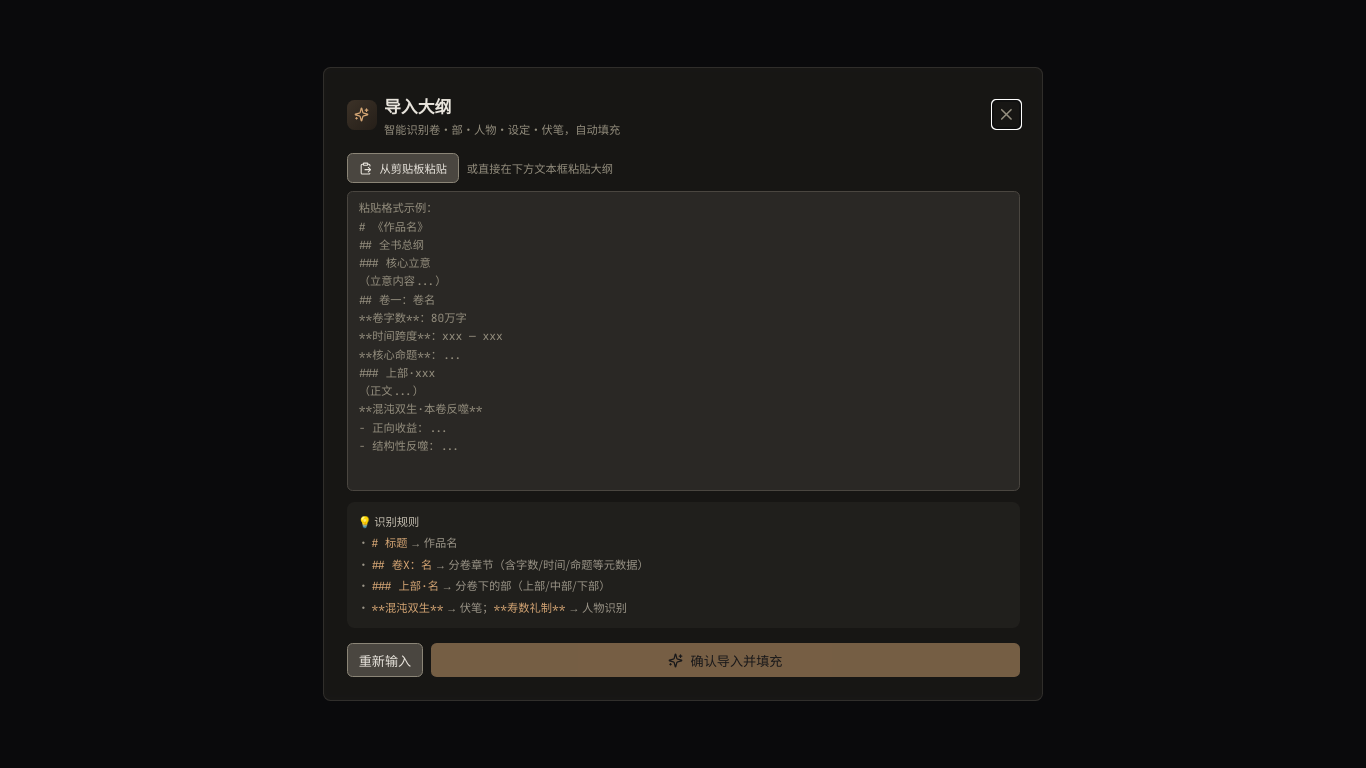
Test: OutlineImportModal › 剪贴板读取失败显示错误
The image size is (1366, 768).
Step 1. Click the button "从剪贴板粘贴" → (403, 168), box [346,153,459,183]
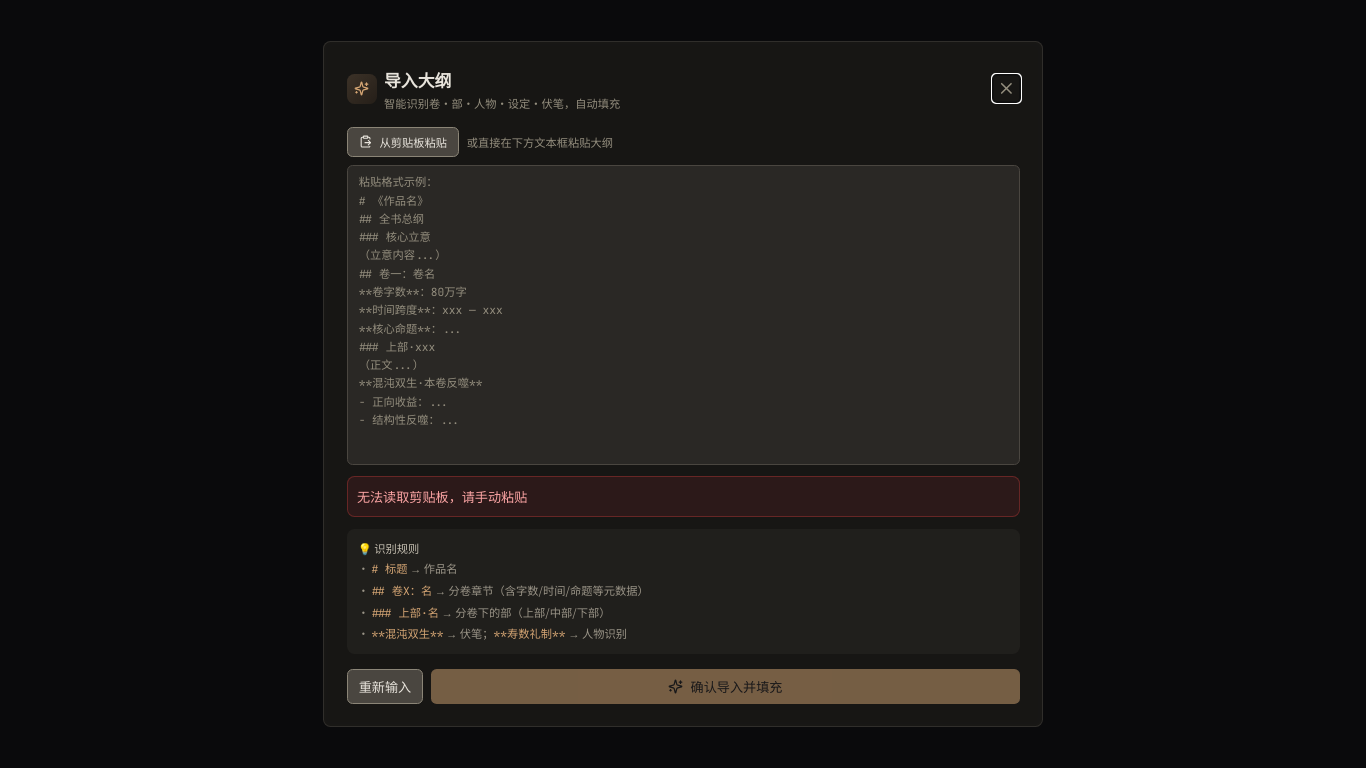
Result: the text "无法读取剪贴板，请手动粘贴" is shown at [346,476,1020,517]
